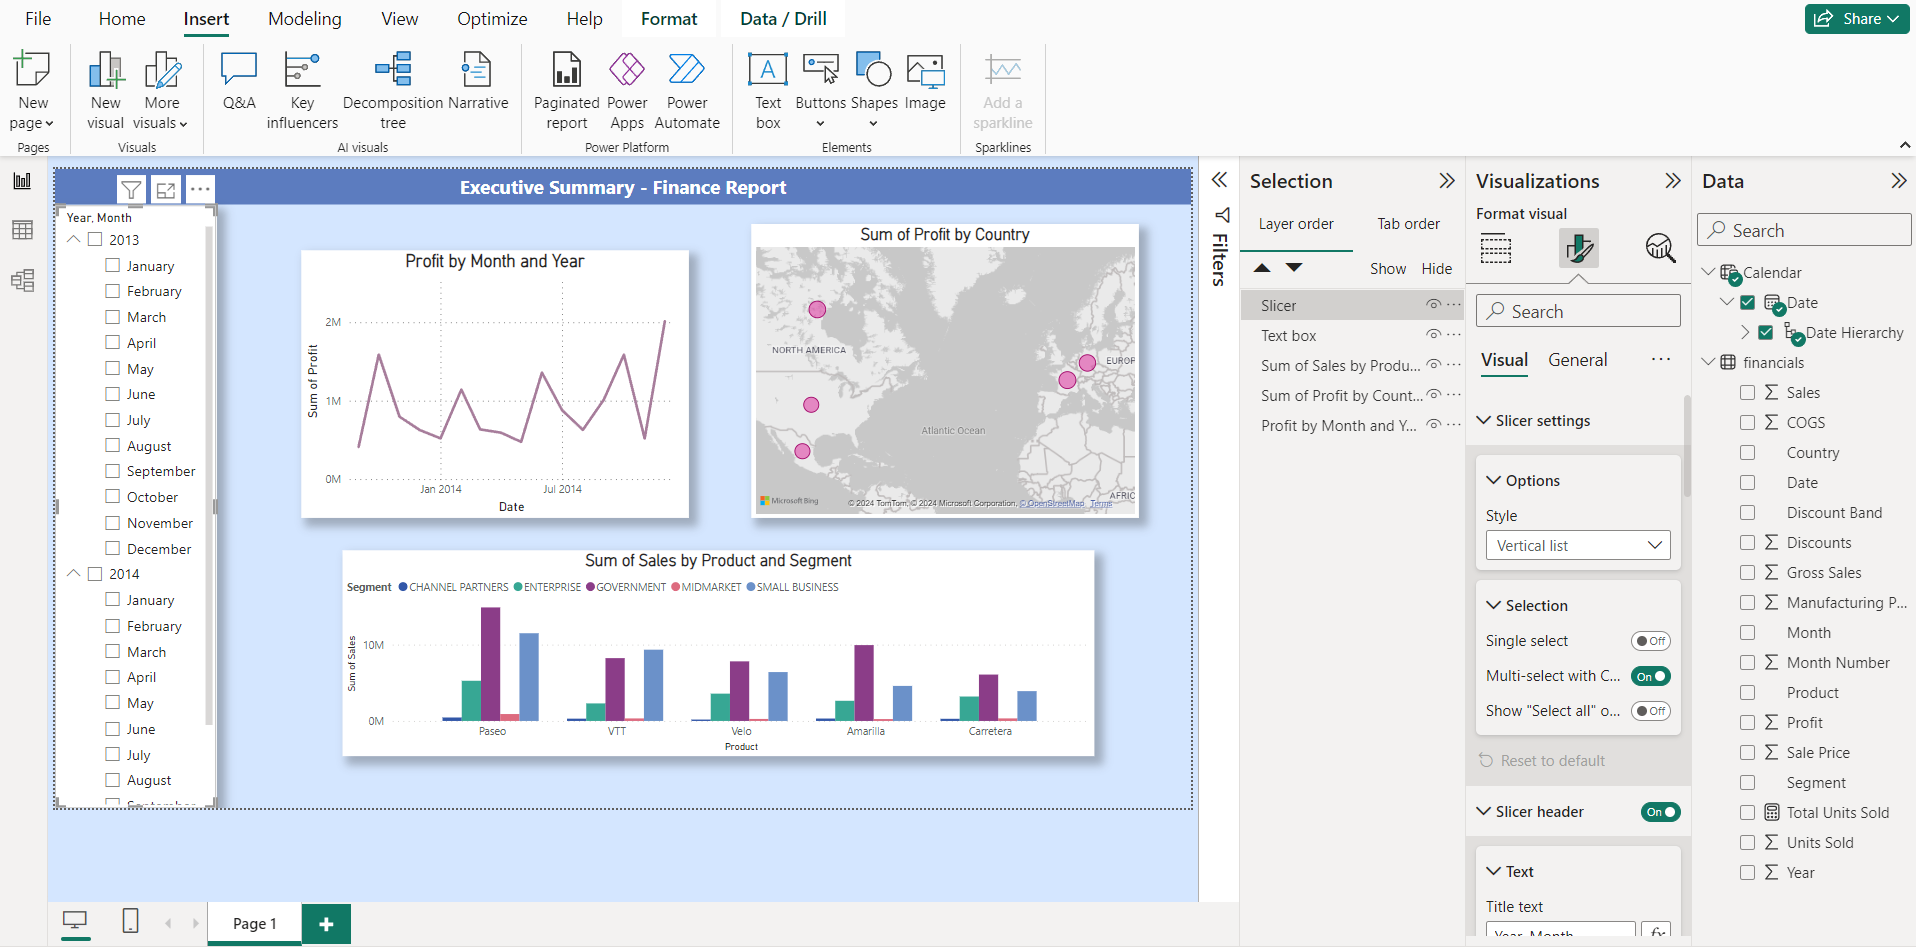

Layout of this report page (visuals, bound fields, positions):
{"tool":"powerbi","page":{"name":"Page 1","canvas":[1280,720],"ordinal":0},"visuals":[{"type":"lineChart","title":"Profit by Month and Year","fields":{"Category":["Calendar.Date"],"Y":["Sum(financials.Profit)"]},"box":[276.9,91.8,436.9,301.9],"z":1000},{"type":"map","fields":{"Category":["financials.Country"],"Size":["Sum(financials.Profit)"]},"box":[784.7,62.6,436.9,331.1],"z":2000},{"type":"clusteredColumnChart","fields":{"Y":["Sum(financials. Sales)"],"Category":["financials.Product"],"Series":["financials.Segment"]},"box":[324.2,429.9,847.3,232.3],"z":3000},{"type":"textbox","box":[0,0,1280,40.3],"z":5000},{"type":"slicer","fields":{"Values":["Calendar.Date.Variation.Date Hierarchy.Year","Calendar.Date.Variation.Date Hierarchy.Month"]},"box":[0,40.3,182.3,680.3],"z":6000}]}

Visuals, with their boxes on the page's 1280x720 design canvas (x1, y1, x2, y2). These are canvas units, not pixel positions in the 1916x947 screenshot, which may show the page scaled, cropped or inside an application window:
"Profit by Month and Year" lineChart: [left=277, top=92, right=714, bottom=394]
map - financials.Country x Sum(financials.Profit): [left=785, top=63, right=1222, bottom=394]
clusteredColumnChart - Sum(financials. Sales) x financials.Product: [left=324, top=430, right=1172, bottom=662]
textbox: [left=0, top=0, right=1280, bottom=40]
slicer - Calendar.Date.Variation.Date Hierarchy.Year x Calendar.Date.Variation.Date Hierarchy.Month: [left=0, top=40, right=182, bottom=721]
